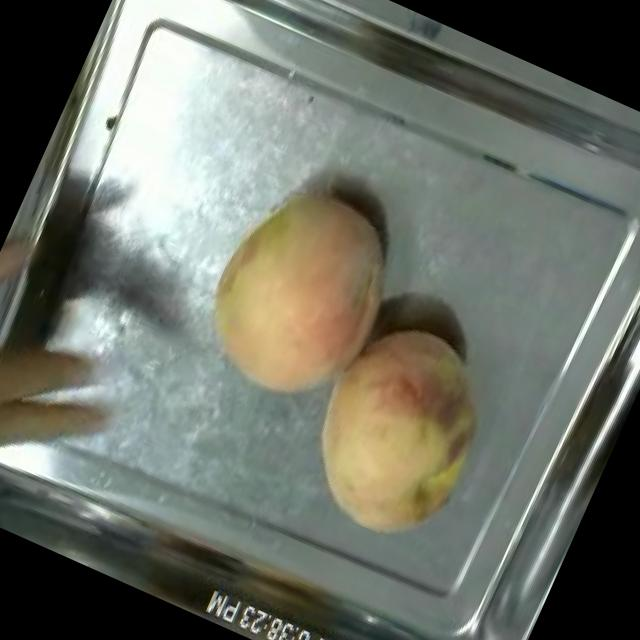Fruit: (170, 155, 427, 433), (276, 294, 524, 566)
